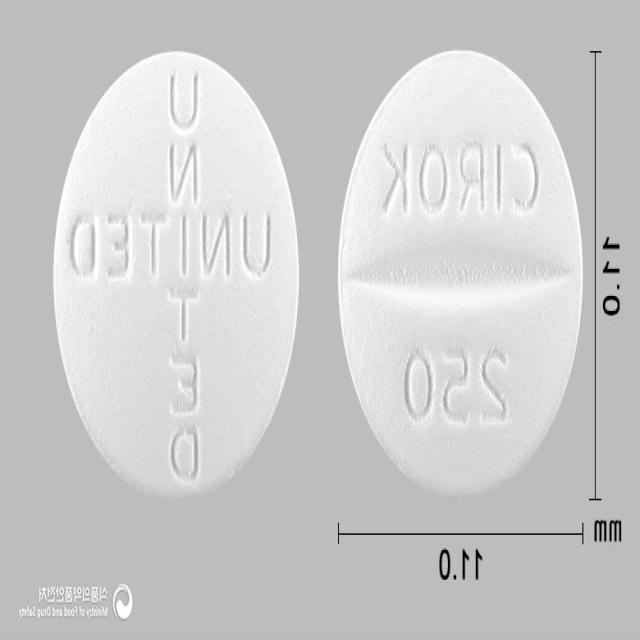Baracle -1mg: (52, 51, 300, 504), (338, 48, 583, 499)
